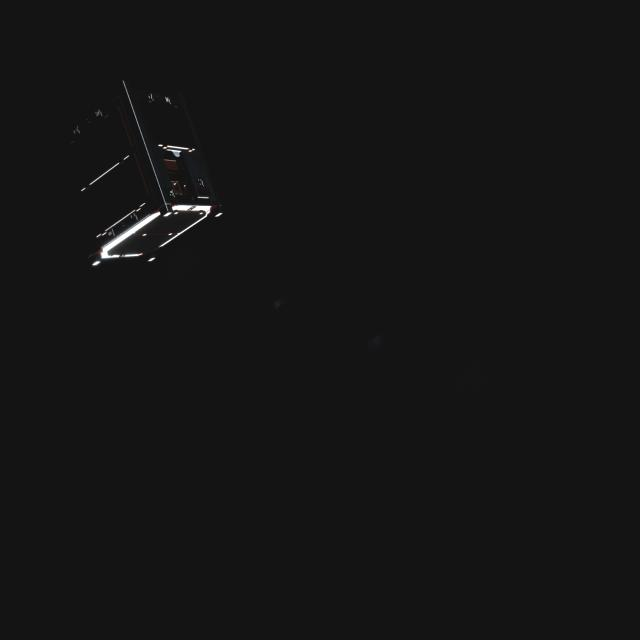satellite: (60, 75, 226, 275)
